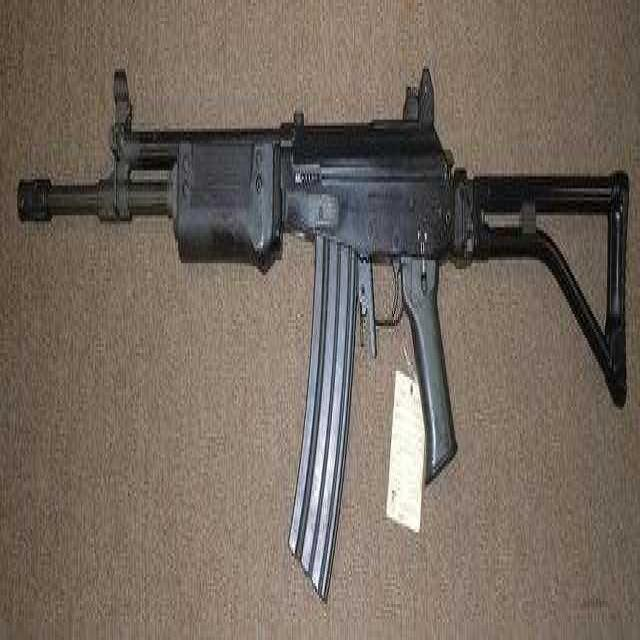heavyweapon: (2, 43, 640, 626)
